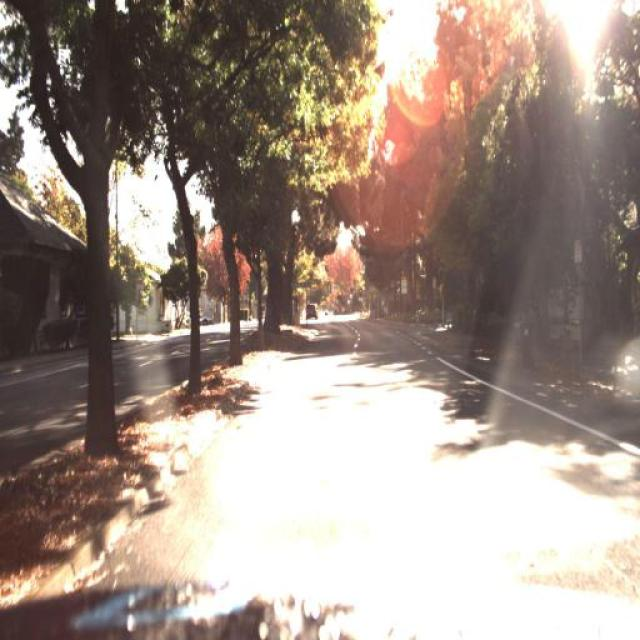car: (187, 307, 215, 331), (304, 300, 318, 324)
trafficLight-RedLeft: (352, 285, 367, 306)
